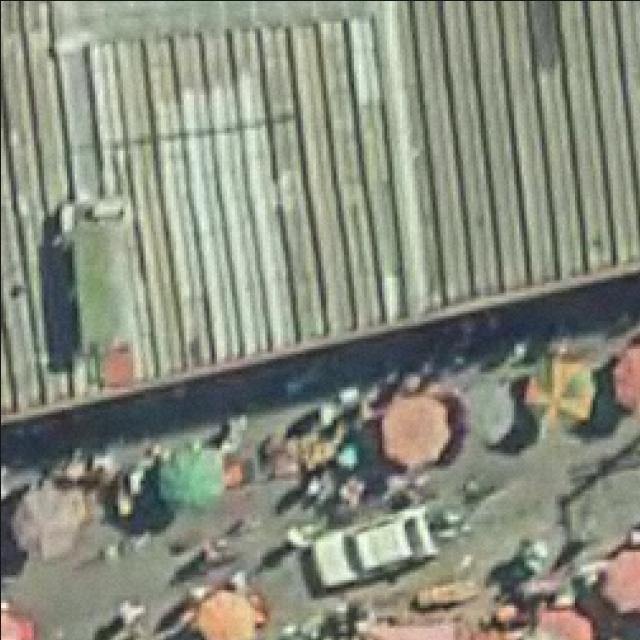vendedor_ambulante: (12, 481, 91, 567), (376, 395, 452, 475), (151, 442, 231, 518), (520, 358, 599, 429), (458, 372, 518, 449), (195, 587, 259, 640), (597, 539, 640, 617), (612, 338, 640, 430), (524, 607, 600, 640)
